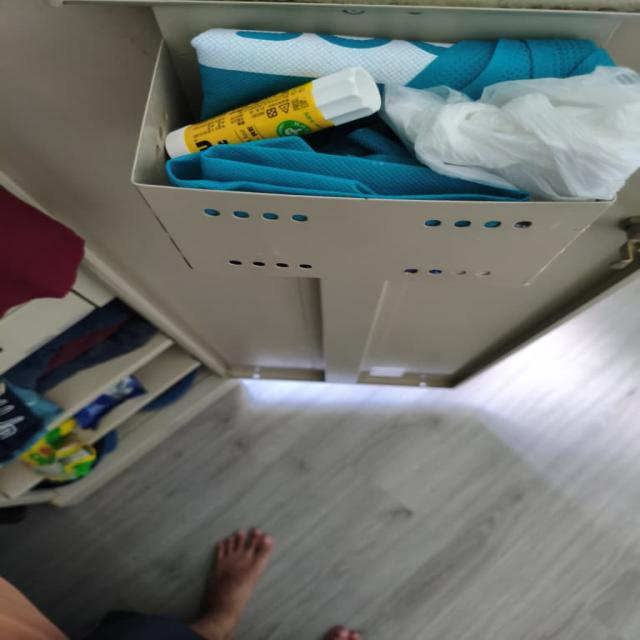glue: (166, 68, 380, 158)
